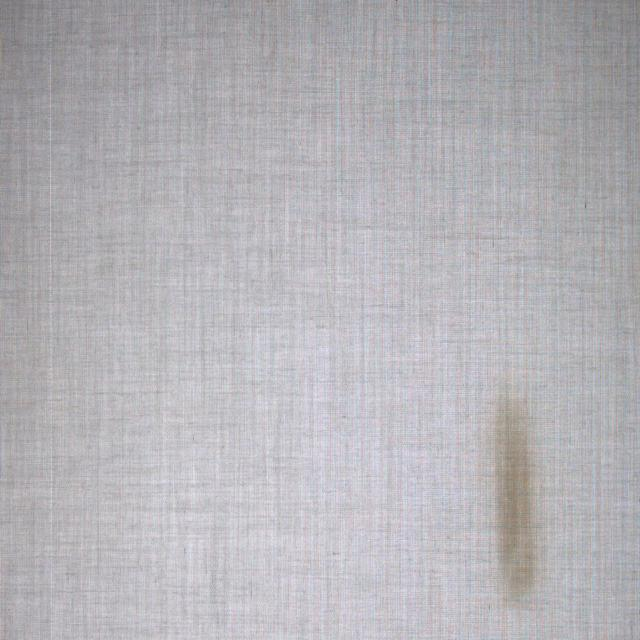dirty: (495, 402, 538, 599)
